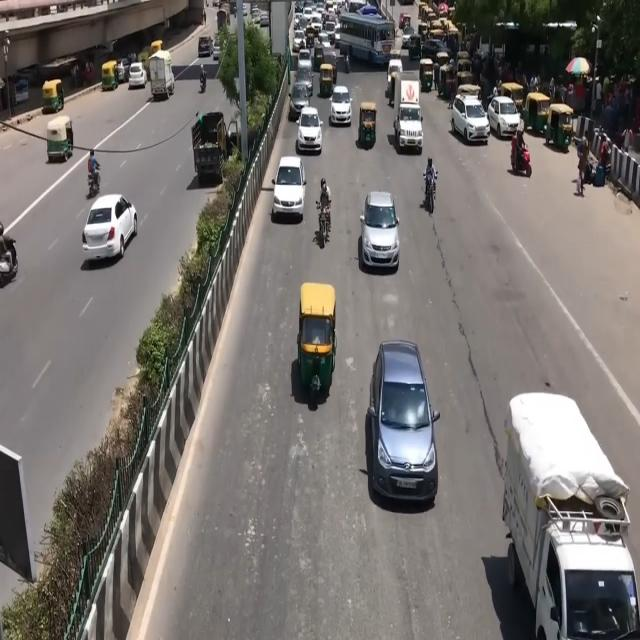auto: (297, 282, 338, 397), (544, 102, 575, 152), (523, 91, 551, 139), (46, 114, 73, 163), (357, 102, 377, 150), (500, 81, 526, 117), (42, 78, 64, 113), (390, 67, 406, 109), (438, 61, 456, 98), (101, 60, 119, 92), (319, 63, 335, 99), (419, 57, 434, 93)
bike-auto: (318, 177, 332, 240), (423, 173, 438, 215), (89, 150, 100, 196)
